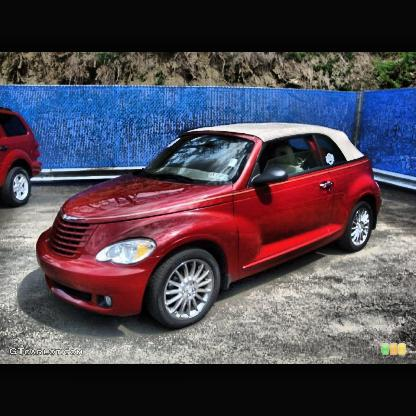Chrysler PT Cruiser Convertible 2008: (37, 122, 384, 330)
